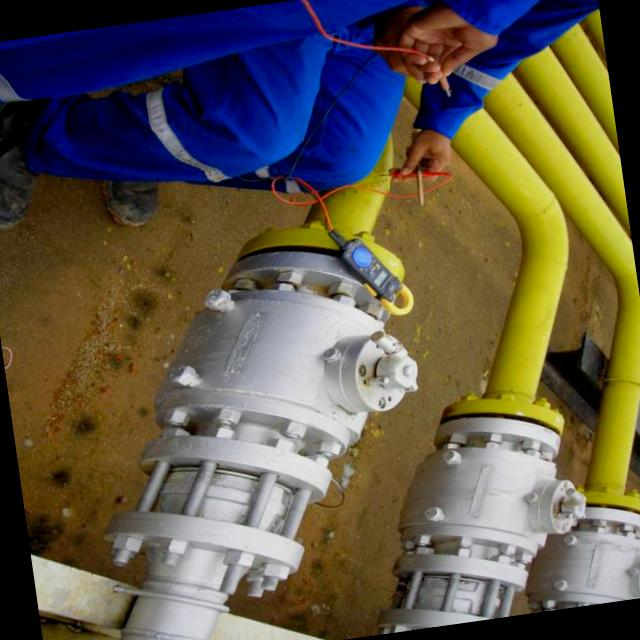gas: (452, 111, 568, 401)
